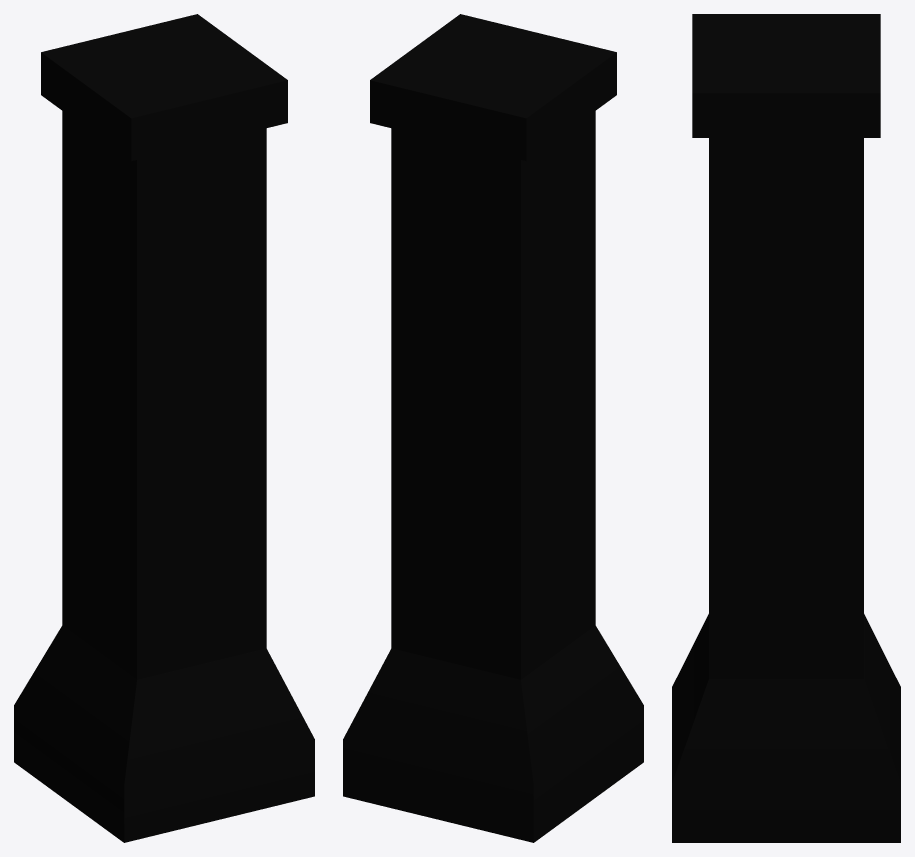
File: bridge-pillar-wide.glb
3 views of the same model, side by side, from view 1: azimuth 30°, elevation 25°; view 2: azimuth 150°, elevation 25°; view 3: azimuth 270°, elevation 25° (orthographic). The views are drawn at different scales.
Visible parts, largest first — view 1: bridge-pillar-wide; view 2: bridge-pillar-wide; view 3: bridge-pillar-wide.
Boxes of the visible parts, x1=… form: bridge-pillar-wide: x1=14, y1=14, x2=314, y2=842; bridge-pillar-wide: x1=343, y1=14, x2=643, y2=842; bridge-pillar-wide: x1=672, y1=14, x2=900, y2=842.
Bounding box in the file's own units: 0.14 × 0.5 × 0.14.
1 material, 1 textured.
